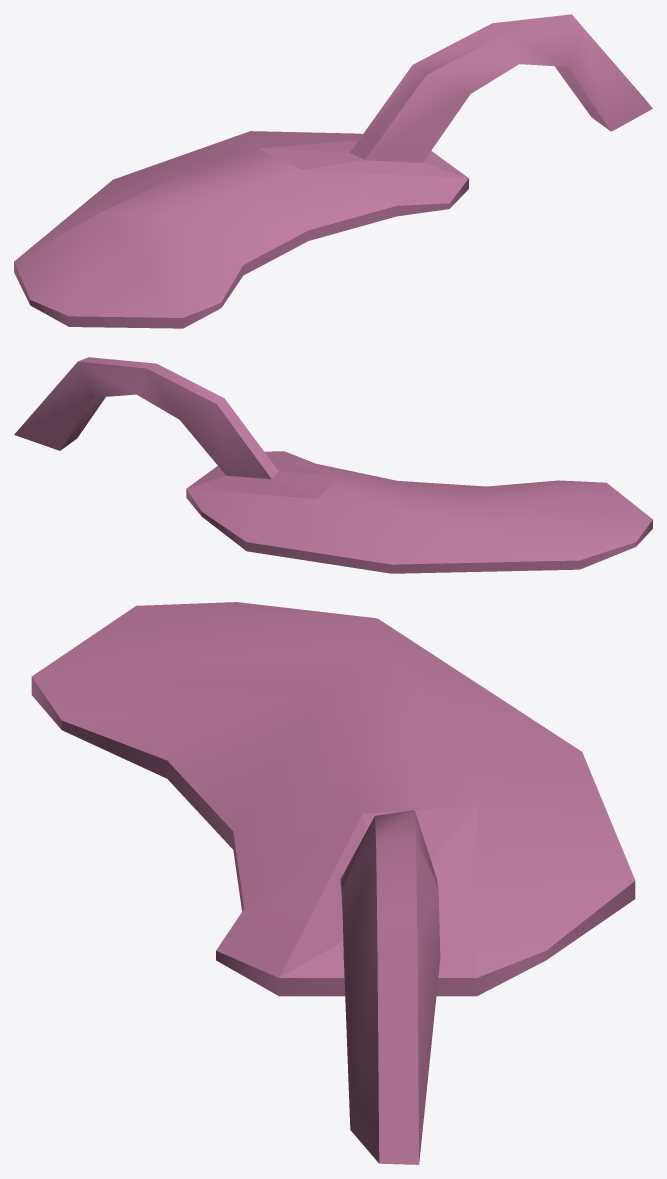
The model's file is terrain_W3lakeb.fbx.
3 views of the same model, one above another, from view 1: azimuth 30°, elevation 25°; view 2: azimuth 150°, elevation 25°; view 3: azimuth 270°, elevation 25° (orthographic). The views are drawn at different scales.
Visible parts, largest first — view 1: W4lakeb_mesh1; view 2: W4lakeb_mesh1; view 3: W4lakeb_mesh1.
Boxes of the visible parts, x1=… form: W4lakeb_mesh1: x1=14, y1=14, x2=652, y2=328; W4lakeb_mesh1: x1=14, y1=357, x2=652, y2=573; W4lakeb_mesh1: x1=31, y1=602, x2=635, y2=1164.
Size of the model in its own units: 14073 by 2447 by 6383.
